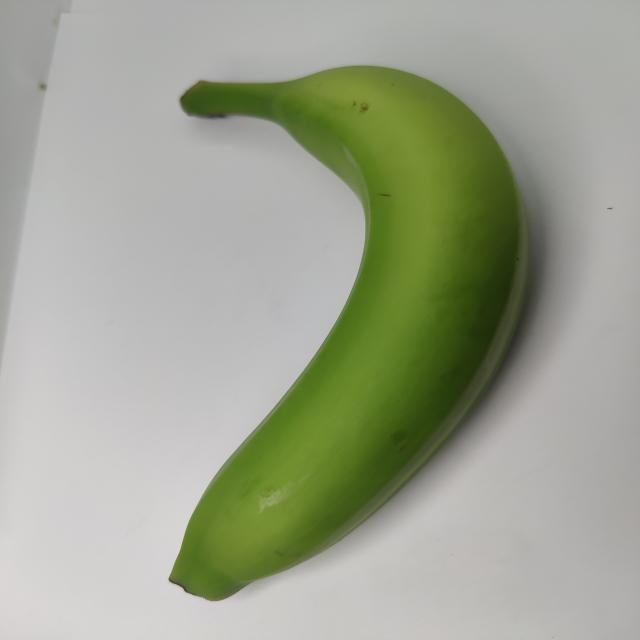raw: (66, 48, 573, 625)
